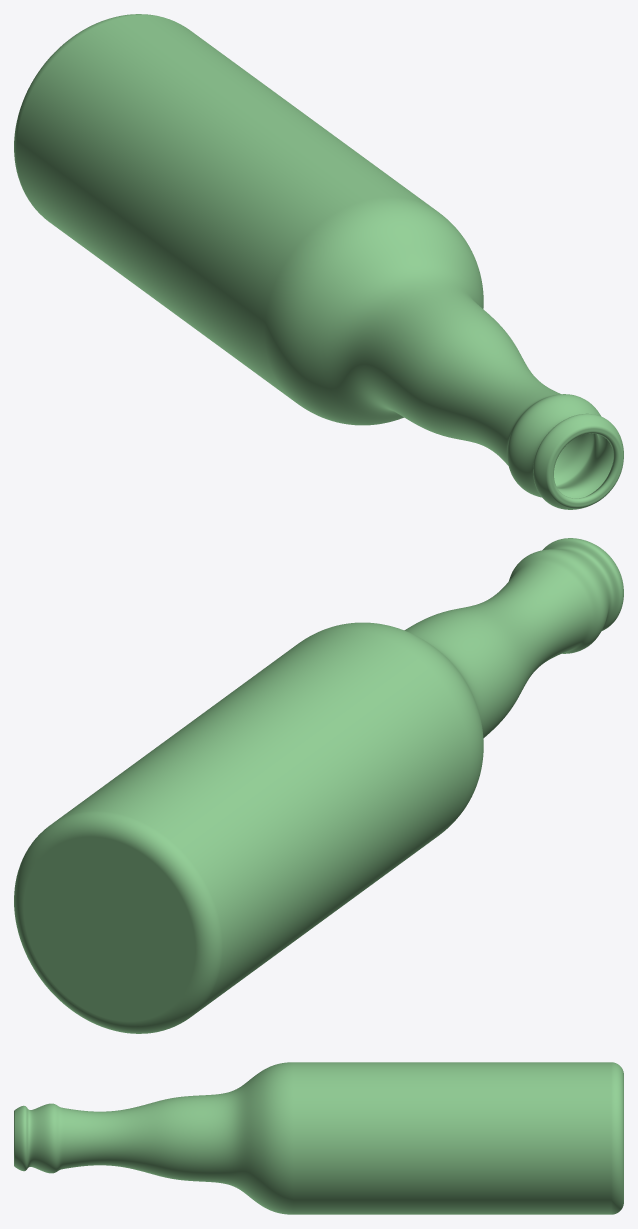
Rendered from Glass_soda_bottle.glb.
3 views of the same model, one above another, from view 1: azimuth 30°, elevation 25°; view 2: azimuth 150°, elevation 25°; view 3: azimuth 270°, elevation 25° (orthographic). The views are drawn at different scales.
Visible parts, largest first — view 1: Body1; view 2: Body1; view 3: Body1.
Part boxes in pixels (left/top/right/bottom): Body1: left=14, top=14, right=623, bottom=509; Body1: left=14, top=538, right=623, bottom=1033; Body1: left=14, top=1062, right=623, bottom=1214.
Size of the model in its own units: 60 by 60 by 240.
